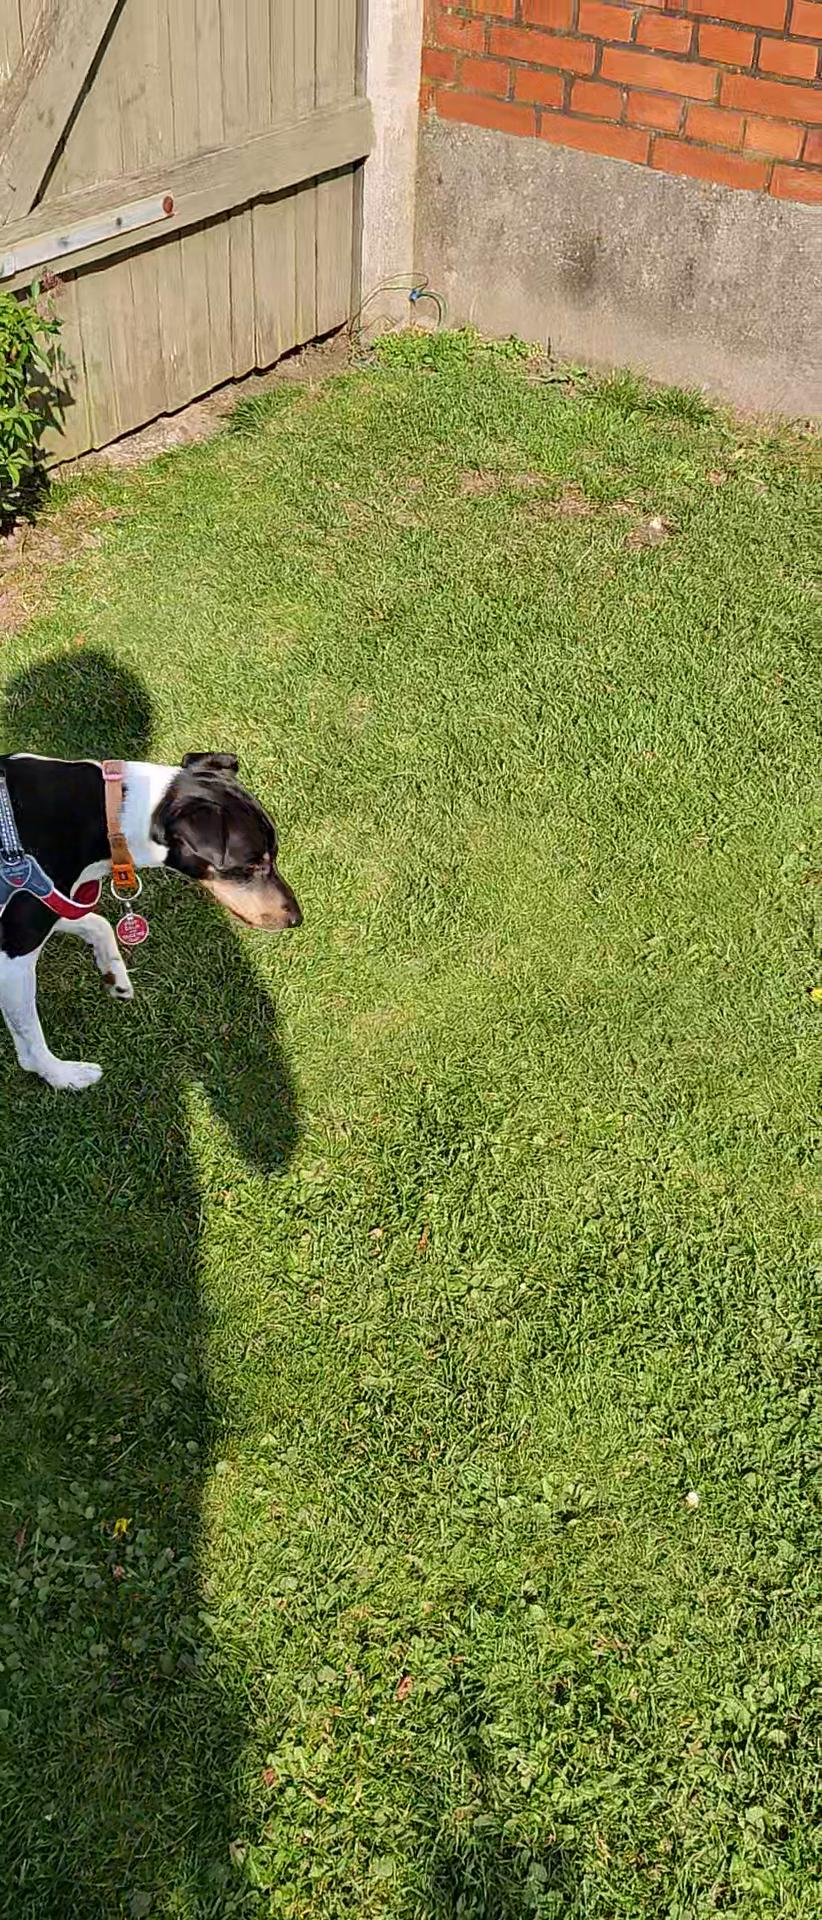Dog: (0, 720, 327, 1107)
